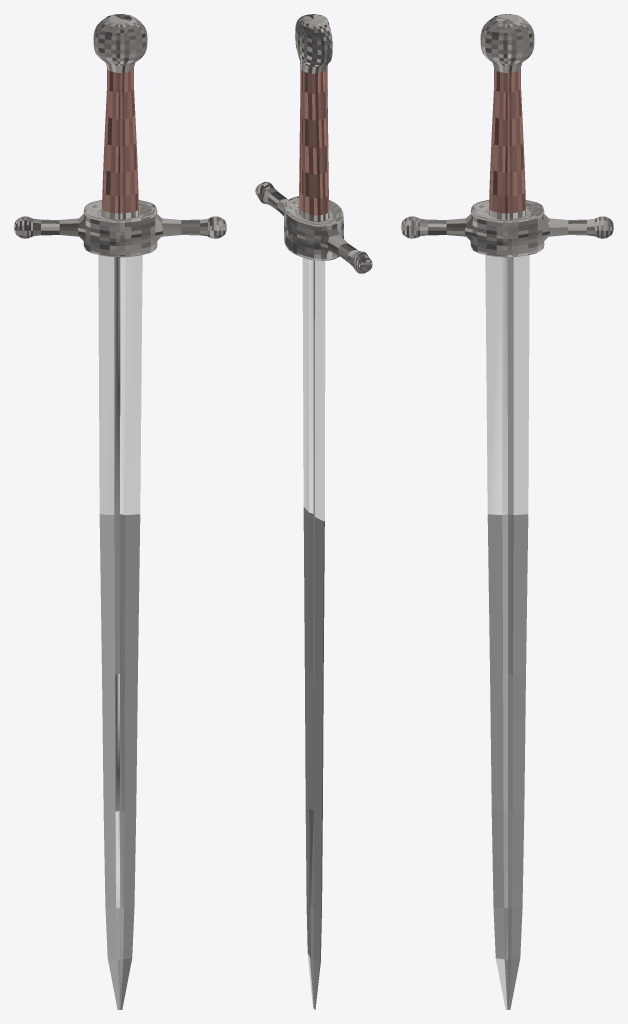
File: DoubleHandsSword.fbx
3 renders of one model, left to right at view 1: azimuth 90°, elevation 25°; view 2: azimuth 210°, elevation 25°; view 3: azimuth 270°, elevation 25°, orthographic.
Parts seen in each view (by area): view 1: pCube1; view 2: pCube1; view 3: pCube1.
Part boxes in pixels (x1,y1,x2,y2): pCube1: (14,14,226,1009); pCube1: (255,14,372,1009); pCube1: (401,14,613,1009).
Size of the model in its own units: 1.28 by 25.95 by 5.03.
